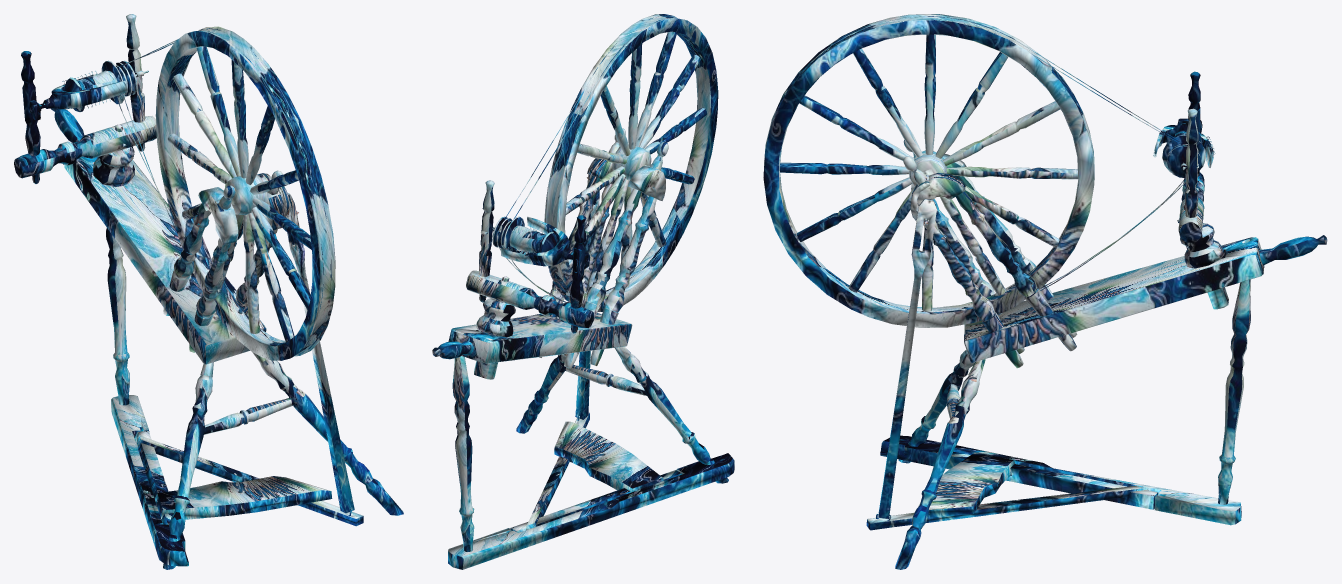
File: ph_spinning_wheel_01.glb
3 views of the same model, side by side, from view 1: azimuth 30°, elevation 25°; view 2: azimuth 150°, elevation 25°; view 3: azimuth 270°, elevation 25° (orthographic). The views are drawn at different scales.
Visible parts, largest first — view 1: A; view 2: A; view 3: A.
Boxes of the visible parts, bbox=[...] form: A: bbox=[14, 14, 403, 569]; A: bbox=[432, 14, 734, 569]; A: bbox=[763, 14, 1327, 569].
Size of the model in its own units: 0.9552 by 1.89 by 2.
1 material, 1 textured.
